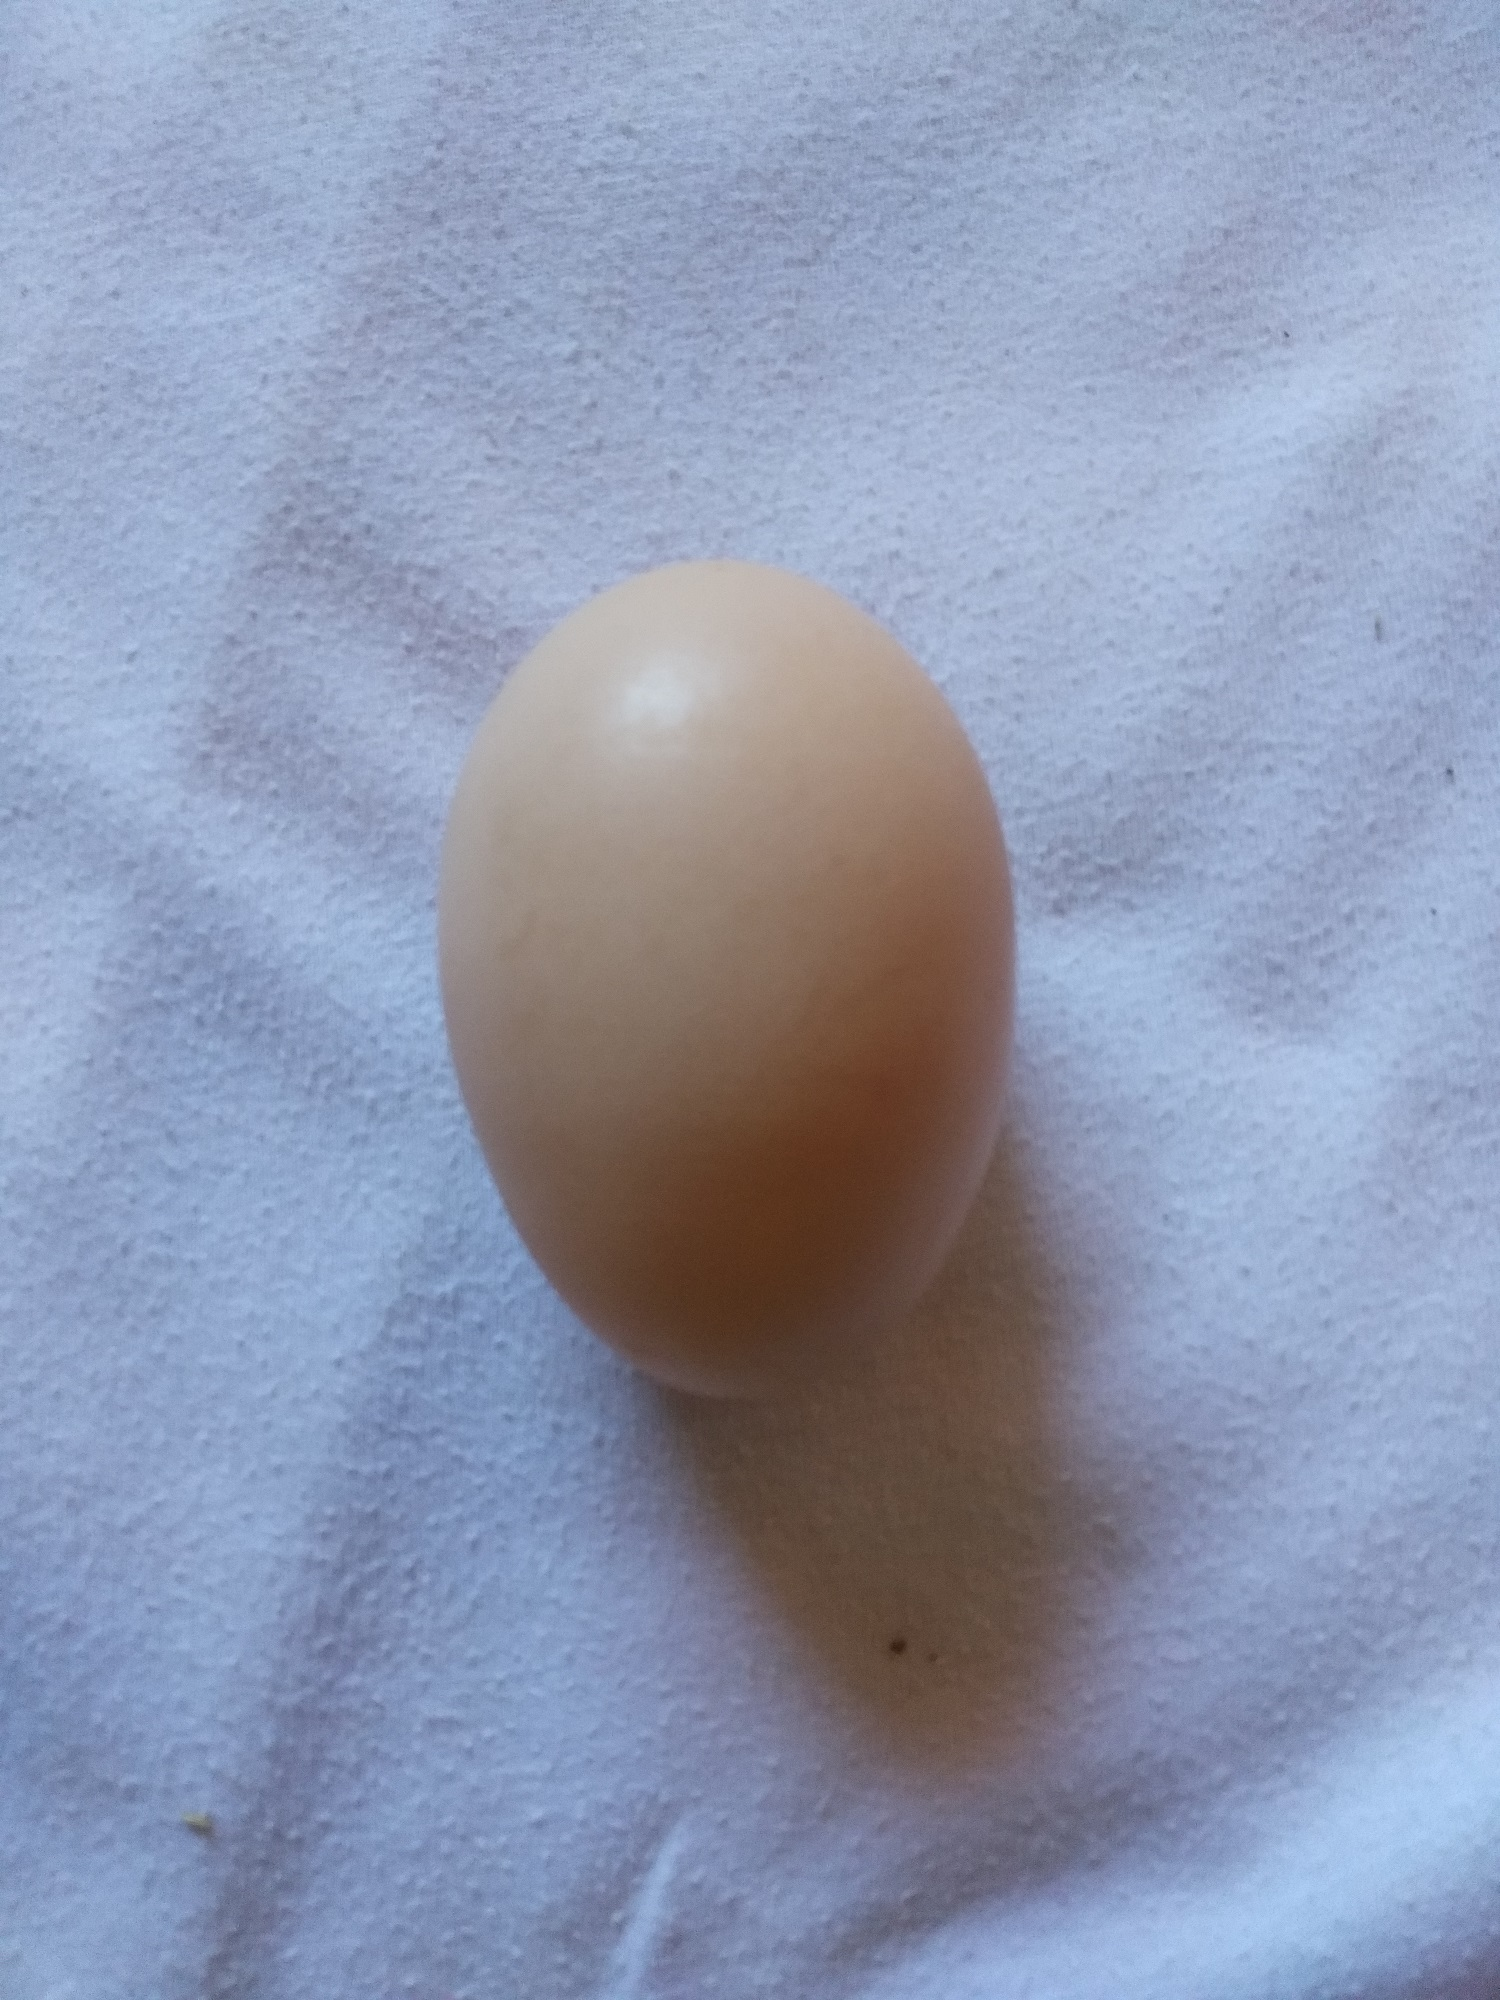Male: (429, 550, 1023, 1406)
